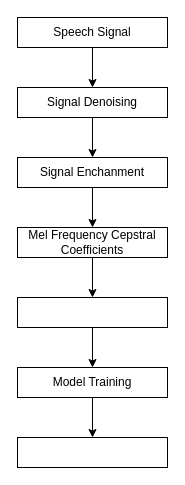
Some shapes in this 185 by 485 pixel diagram are drawn without their labels. Here are the shapes that lost their labels. From the top down, the centre of each, then its label:
At (x=92, y=312): "Image Scaling".
At (x=92, y=452): "Evaluation".
